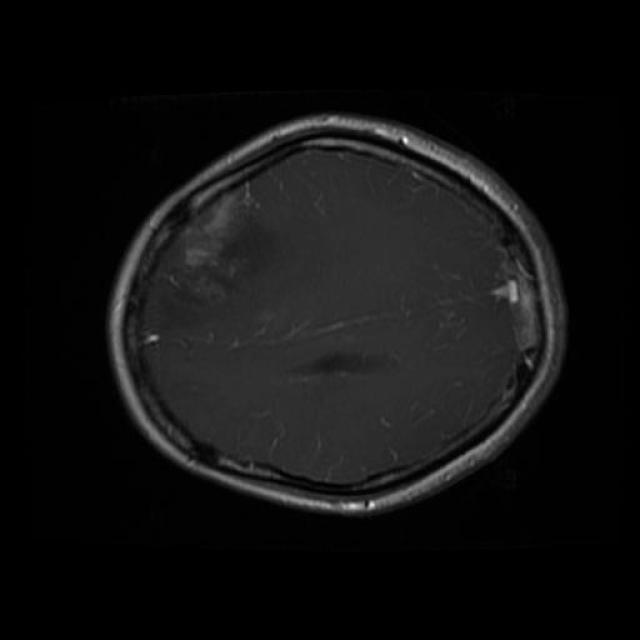Glioma: (162, 183, 273, 302)
